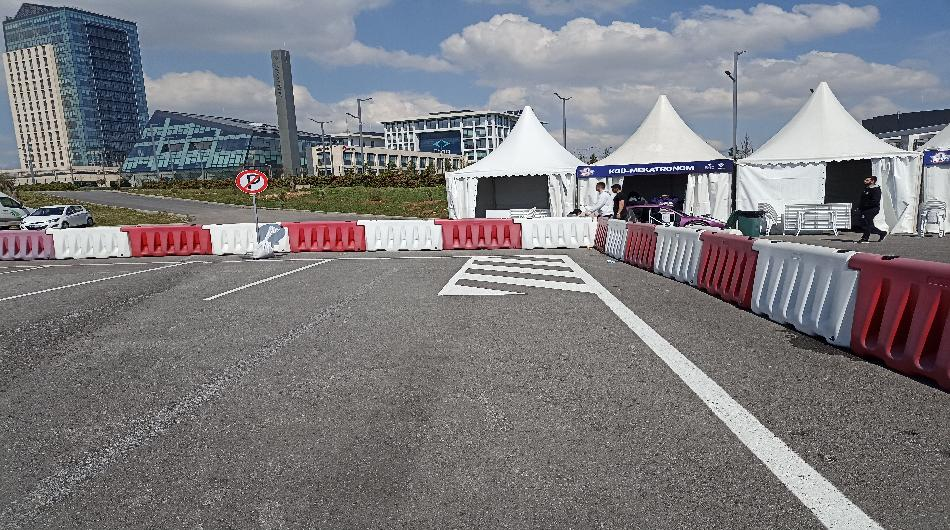park_yapilmaz_3: (235, 167, 266, 192)
park_yapilmaz_yerde: (440, 250, 611, 306)
